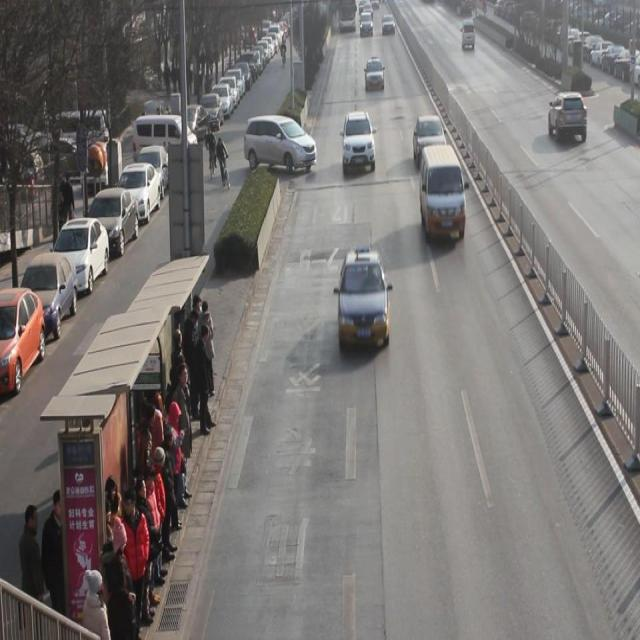car: (338, 252, 390, 350), (342, 111, 376, 176), (548, 91, 588, 145), (413, 115, 448, 169), (364, 59, 385, 93)
truck: (419, 145, 467, 244)
